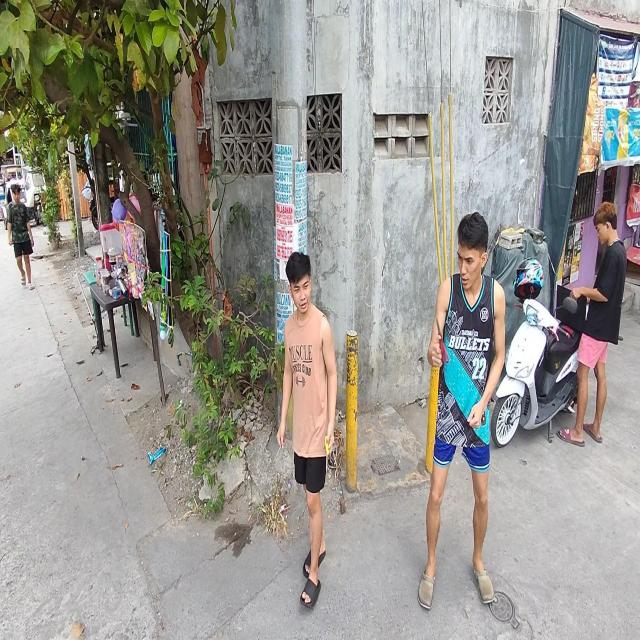scissor: (436, 318, 449, 362), (273, 438, 285, 464), (325, 437, 329, 473)
